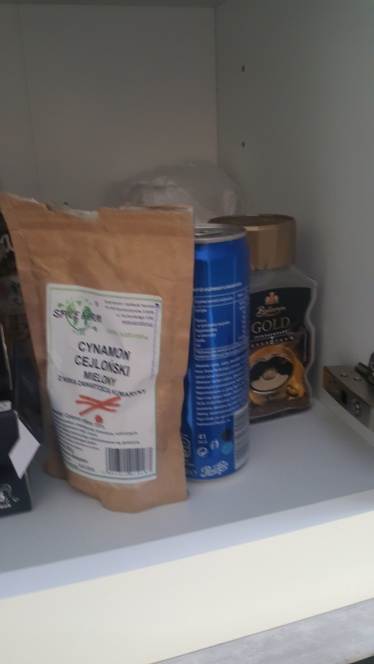pepsi: (141, 212, 256, 495)
